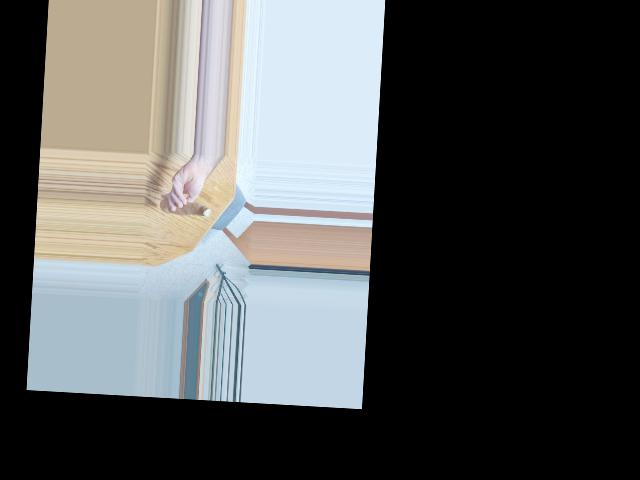sweet_potato: (168, 202, 212, 216)
